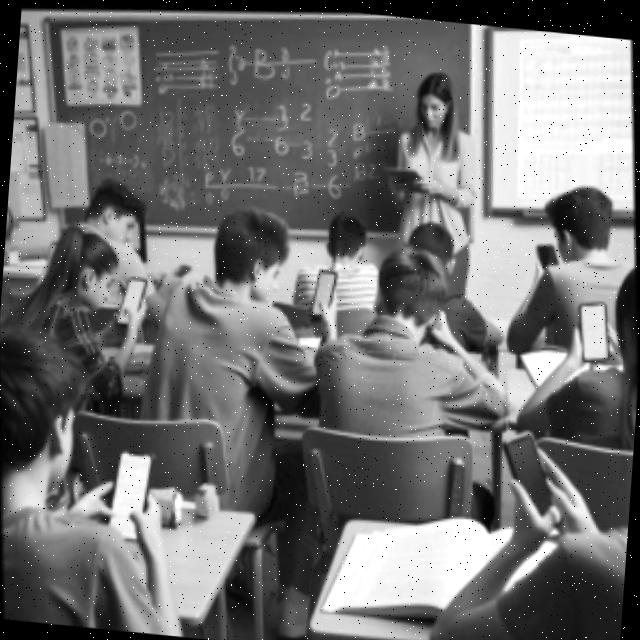phone: (495, 421, 568, 528), (99, 443, 162, 543), (573, 291, 612, 358), (112, 272, 149, 325), (304, 262, 340, 316), (152, 258, 192, 291), (534, 235, 562, 270), (172, 259, 190, 274)
